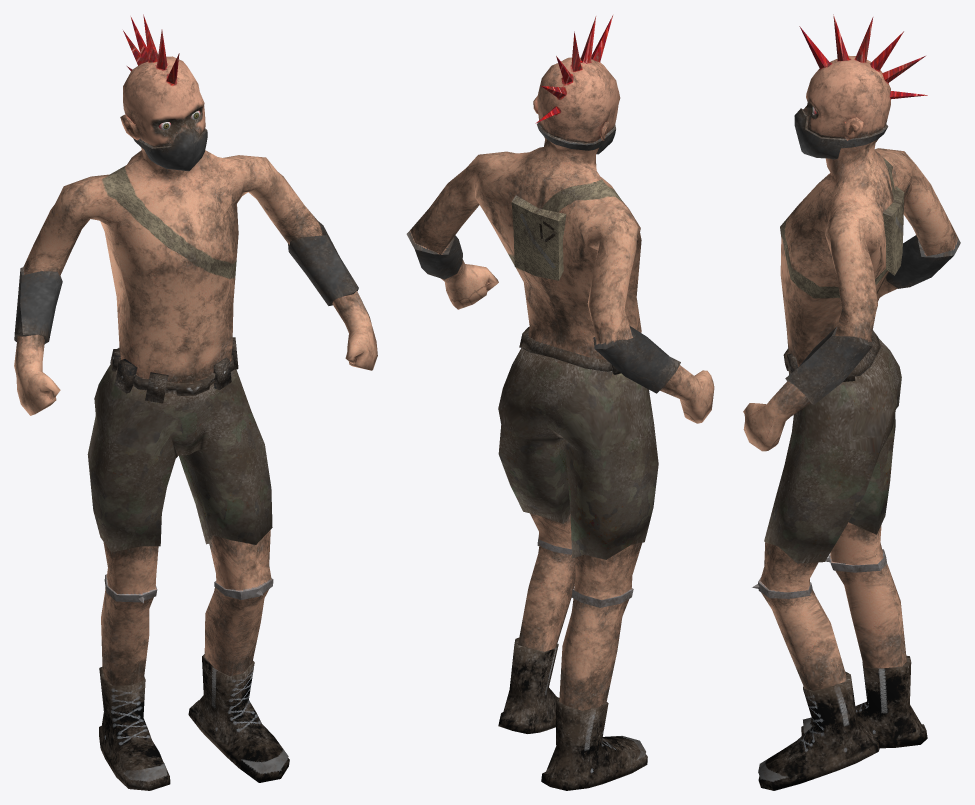
File: Anim_ataque_d1_npc2.0031.obj
3 renders of one model, left to right at view 1: azimuth 30°, elevation 25°; view 2: azimuth 150°, elevation 25°; view 3: azimuth 270°, elevation 25°, orthographic.
Parts seen in each view (by area): view 1: polySurface1; view 2: polySurface1; view 3: polySurface1.
Boxes of the visible parts, box(x1,y1,x2,y2) form: polySurface1: box(14, 14, 377, 790); polySurface1: box(406, 15, 714, 790); polySurface1: box(743, 14, 960, 790).
Size of the model in its own units: 4.4 by 10.16 by 2.73.
2 materials, 2 textured.
